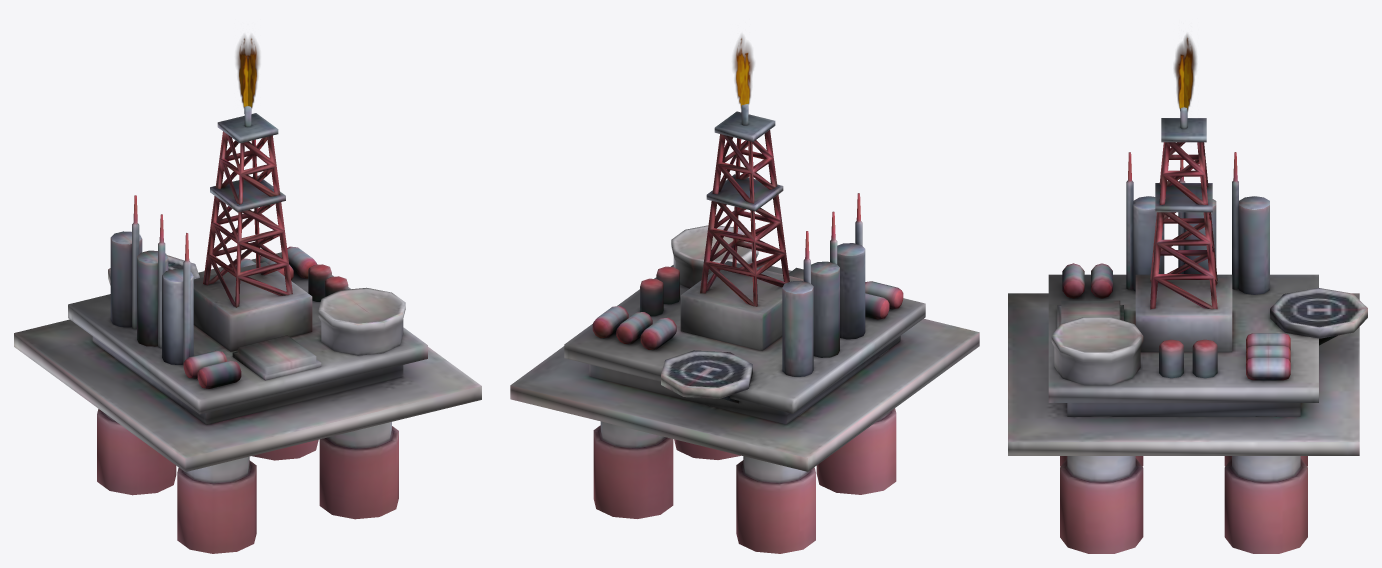
File: OilWell.glb
3 views of the same model, side by side, from view 1: azimuth 30°, elevation 25°; view 2: azimuth 150°, elevation 25°; view 3: azimuth 270°, elevation 25° (orthographic). The views are drawn at different scales.
Parts seen in each view (by area): view 1: 4; view 2: 4; view 3: 4.
Boxes of the visible parts, box(x1,y1,x2,y2) form: 4: box(14, 36, 481, 553); 4: box(510, 36, 979, 553); 4: box(1008, 34, 1367, 553).
Bounding box in the file's own units: 7.29 × 11.01 × 7.46.
Materials: 2 (2 with a texture image).
